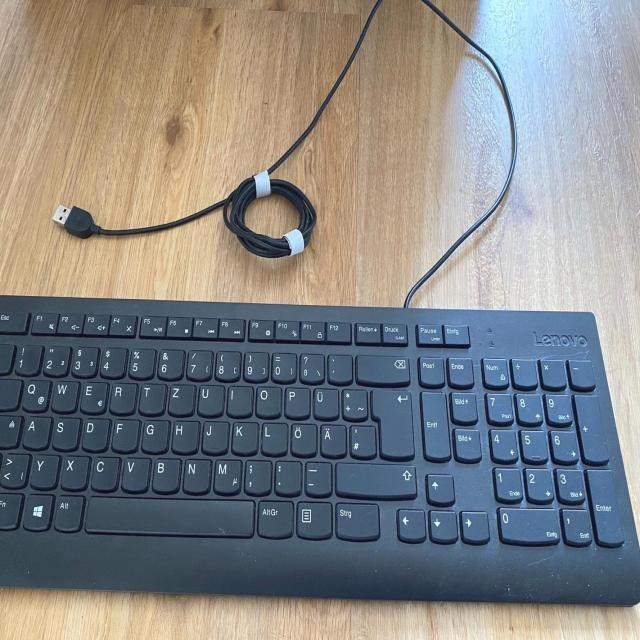0: (269, 350, 295, 380)
1: (14, 341, 41, 373)
2: (42, 342, 69, 374)
3: (71, 343, 97, 375)
4: (99, 344, 125, 375)
5: (127, 346, 154, 377)
6: (156, 346, 183, 377)
7: (185, 347, 211, 378)
8: (213, 348, 239, 379)
9: (242, 349, 268, 380)
a: (21, 413, 49, 447)
accent: (326, 351, 351, 381)
ae: (318, 421, 345, 455)
alt-left: (52, 492, 82, 529)
altgr-right: (255, 496, 292, 535)
b: (150, 455, 179, 491)
c: (89, 453, 118, 489)
caret: (0, 341, 14, 372)
comma: (243, 457, 270, 493)
d: (80, 415, 108, 450)
del: (354, 352, 409, 382)
e: (78, 378, 106, 411)
enter: (370, 386, 413, 457)
f: (110, 416, 138, 450)
g: (140, 417, 167, 451)
h: (170, 418, 198, 451)
hash: (348, 422, 374, 456)
i: (226, 382, 252, 415)
j: (201, 418, 228, 451)
k: (230, 419, 257, 453)
keyboard: (0, 289, 640, 610)
l: (260, 420, 286, 453)
less: (0, 449, 28, 486)
m: (212, 456, 241, 493)
minus: (303, 458, 331, 494)
n: (182, 456, 210, 492)
o: (254, 382, 280, 415)
oe: (289, 421, 316, 455)
p: (283, 384, 309, 417)
plus: (340, 385, 366, 418)
point: (273, 458, 301, 494)
q: (20, 376, 49, 410)
r: (108, 380, 135, 413)
s: (51, 415, 79, 449)
shift-left: (0, 449, 19, 485)
shift-lock: (0, 412, 25, 446)
shift-right: (333, 459, 415, 495)
space: (83, 494, 253, 534)
ss: (298, 351, 323, 381)
strg-left: (0, 489, 19, 526)
strg-right: (333, 499, 380, 538)
t: (138, 381, 165, 413)
tab: (0, 376, 21, 408)
u: (196, 382, 222, 415)
ue: (311, 385, 338, 418)
v: (120, 454, 149, 490)
w: (50, 377, 77, 410)
x: (59, 452, 88, 488)
y: (28, 451, 58, 487)
z: (167, 381, 194, 414)
